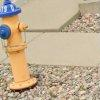a fire hydrant: (0, 2, 29, 93)
